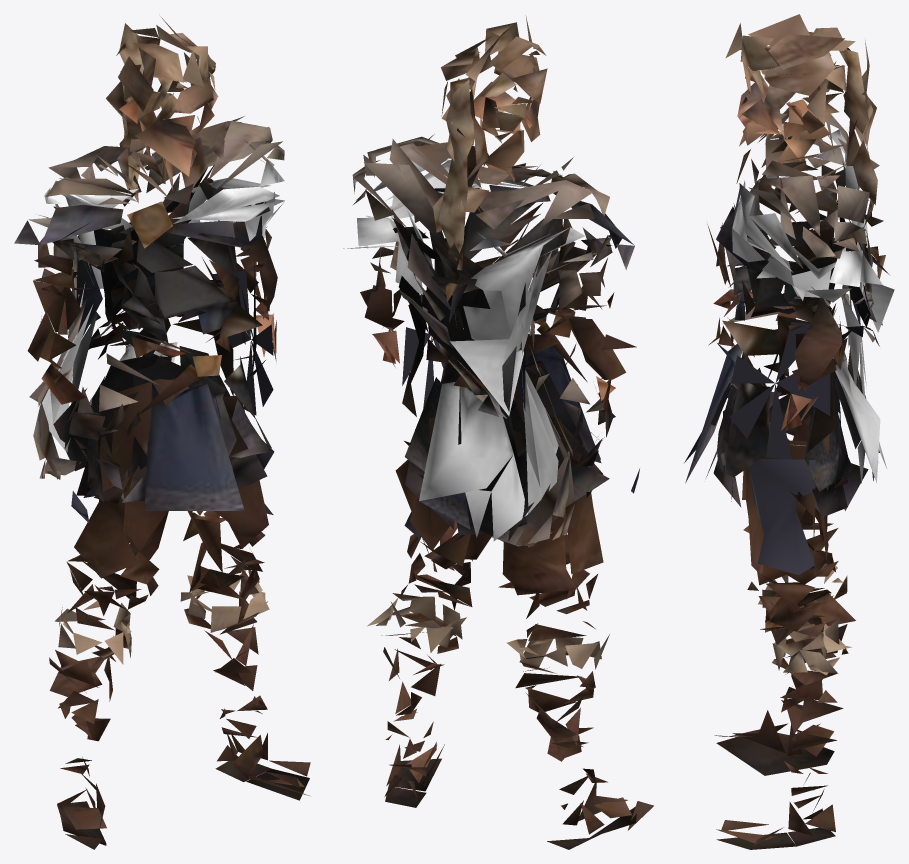
The model's file is sigrun_lod.glb.
3 renders of one model, left to right at view 1: azimuth 30°, elevation 25°; view 2: azimuth 150°, elevation 25°; view 3: azimuth 270°, elevation 25°, orthographic.
Parts seen in each view (by area): view 1: titus; view 2: titus; view 3: titus.
Boxes of the visible parts, x1=… form: titus: x1=14, y1=16, x2=310, y2=849; titus: x1=343, y1=15, x2=653, y2=849; titus: x1=684, y1=14, x2=894, y2=849.
Bounding box in the file's own units: 0.6585 × 1.85 × 0.4461.
Materials: 2 (2 with a texture image).
